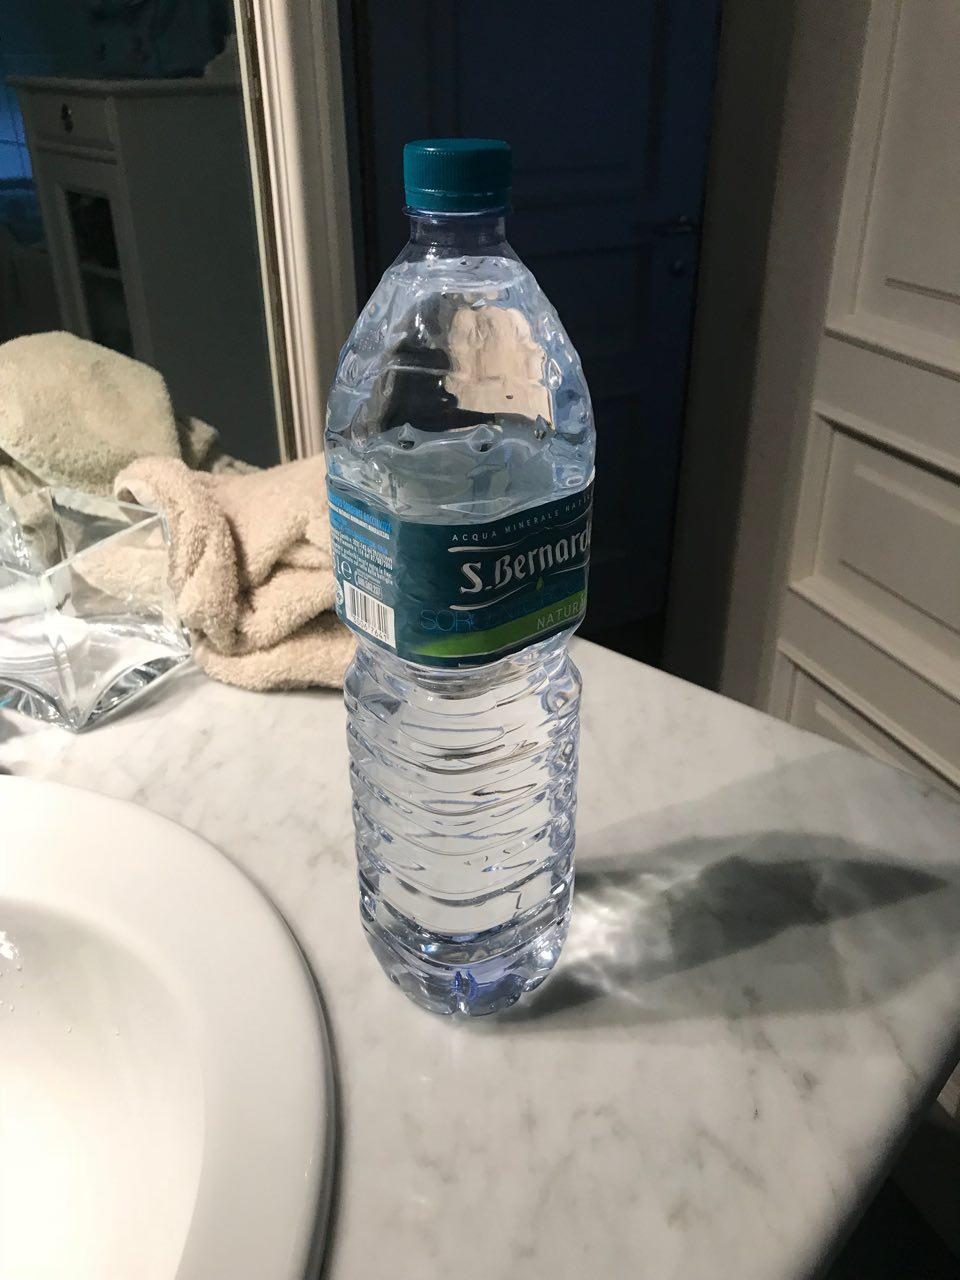san_bernardo: (323, 136, 598, 1019)
